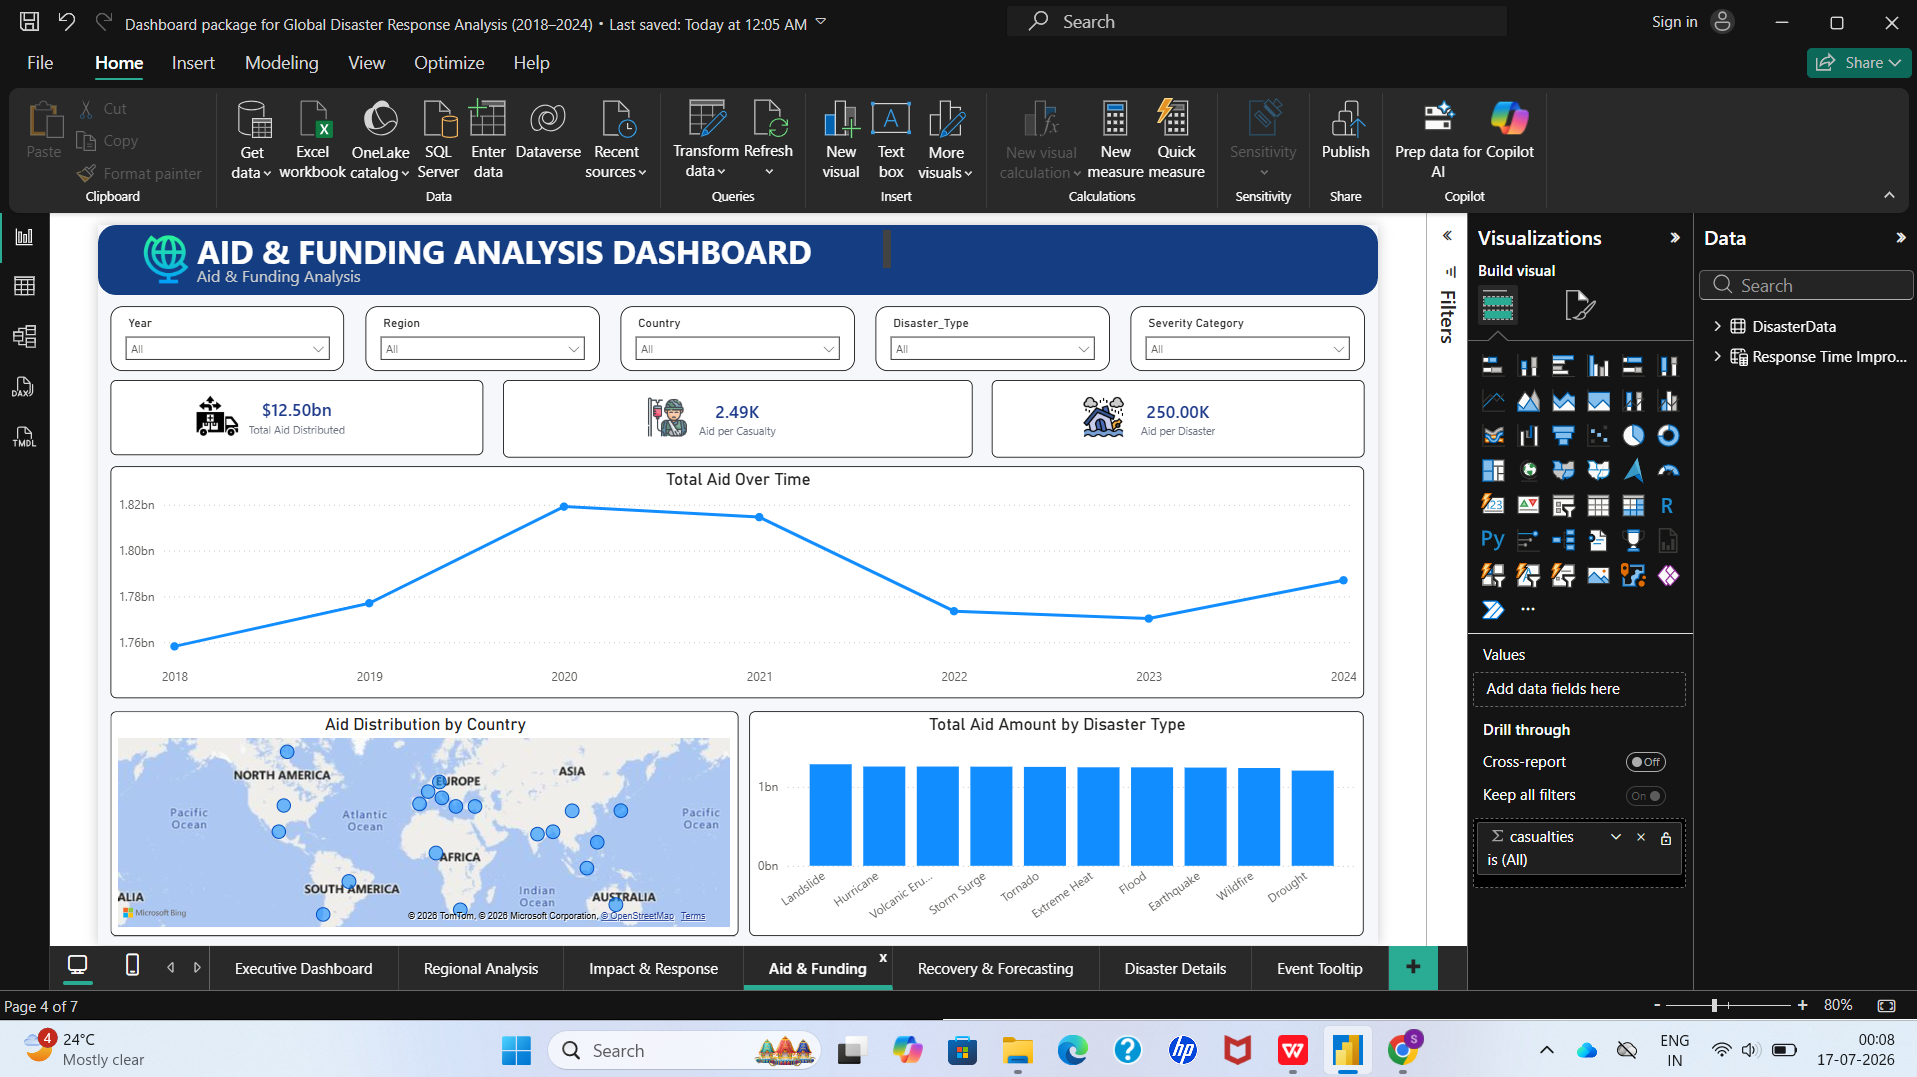

The page's visual inventory and layout, read from the dashboard file:
{"tool":"powerbi","page":{"name":"Aid & Funding","canvas":[1280,720],"ordinal":3},"visuals":[{"type":"lineChart","title":"Total Aid Over Time","fields":{"Category":["DisasterData.date.Variation.Date Hierarchy.Year"],"Y":["Sum(DisasterData.aid_amount_usd)"]},"box":[12.3,241.7,1254,231.9],"z":0},{"type":"cardVisual","title":"Aid per Casualty","fields":{"Data":["DisasterData.Aid per Casualty"]},"box":[404.9,154.6,469.9,77.3],"z":1000},{"type":"cardVisual","title":"Aid per Disaster","fields":{"Data":["DisasterData.Aid per Disaster"]},"box":[893.3,154.6,373,77.3],"z":2000},{"type":"map","title":"Aid Distribution by Country","fields":{"Category":["DisasterData.Country"],"Size":["Sum(DisasterData.aid_amount_usd)"]},"box":[12.3,485.9,628.2,224.5],"z":3000},{"type":"clusteredColumnChart","title":"Total Aid Amount by Disaster Type","fields":{"Category":["DisasterData.Disaster_Type"],"Y":["Sum(DisasterData.aid_amount_usd)"]},"box":[651.5,485.9,614.7,224.5],"z":4000},{"type":"shape","box":[0,0,1280,70],"z":5000},{"type":"image","box":[43.8,0,48.8,68.8],"z":6000},{"type":"textbox","box":[93.3,0,704.3,50.3],"z":7000},{"type":"textbox","box":[93.3,35.6,389,34.4],"z":8000},{"type":"slicer","fields":{"Values":["DisasterData.date.Variation.Date Hierarchy.Year"]},"box":[12.5,81.2,233.8,65],"z":9000},{"type":"slicer","fields":{"Values":["DisasterData.country"]},"box":[522.7,81,234.4,65],"z":10000},{"type":"slicer","fields":{"Values":["DisasterData.disaster_type"]},"box":[777.9,81,234.4,65],"z":11000},{"type":"slicer","fields":{"Values":["DisasterData.Region"]},"box":[267.5,81,234.4,65],"z":12000},{"type":"slicer","fields":{"Values":["DisasterData.Severity Category"]},"box":[1031.9,81,234.4,65],"z":13000},{"type":"cardVisual","fields":{"Data":["DisasterData.Total Aid Distributed"]},"box":[12.3,154.6,373,74.8],"z":14000},{"type":"image","box":[93.3,170.6,51.5,41.7],"z":15000},{"type":"image","box":[543.6,171.8,51.5,41.7],"z":16000},{"type":"image","box":[980.4,171.8,51.5,41.7],"z":17000}]}

Visuals, with their boxes on the page's 1280x720 design canvas (x1, y1, x2, y2). These are canvas units, not pixel positions in the 1917x1077 screenshot, which may show the page scaled, cropped or inside an application window:
"Total Aid Over Time" lineChart: <region>12, 242, 1266, 474</region>
"Aid per Casualty" cardVisual: <region>405, 155, 875, 232</region>
"Aid per Disaster" cardVisual: <region>893, 155, 1266, 232</region>
"Aid Distribution by Country" map: <region>12, 486, 640, 710</region>
"Total Aid Amount by Disaster Type" clusteredColumnChart: <region>652, 486, 1266, 710</region>
shape: <region>0, 0, 1280, 70</region>
image: <region>44, 0, 93, 69</region>
textbox: <region>93, 0, 798, 50</region>
textbox: <region>93, 36, 482, 70</region>
slicer - DisasterData.date.Variation.Date Hierarchy.Year: <region>12, 81, 246, 146</region>
slicer - DisasterData.country: <region>523, 81, 757, 146</region>
slicer - DisasterData.disaster_type: <region>778, 81, 1012, 146</region>
slicer - DisasterData.Region: <region>268, 81, 502, 146</region>
slicer - DisasterData.Severity Category: <region>1032, 81, 1266, 146</region>
cardVisual - DisasterData.Total Aid Distributed: <region>12, 155, 385, 229</region>
image: <region>93, 171, 145, 212</region>
image: <region>544, 172, 595, 214</region>
image: <region>980, 172, 1032, 214</region>
